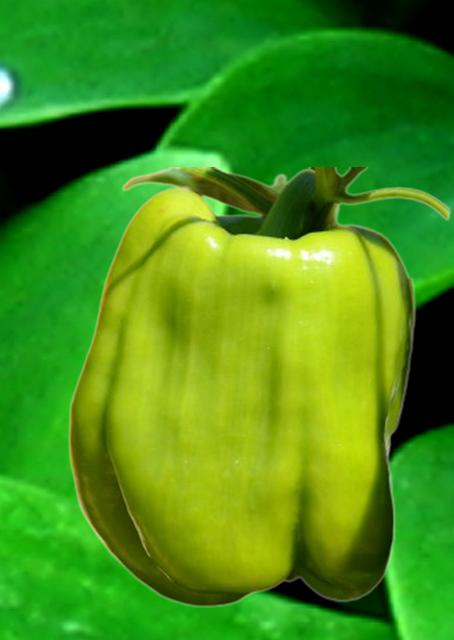bell_pepper: (67, 167, 450, 607)
